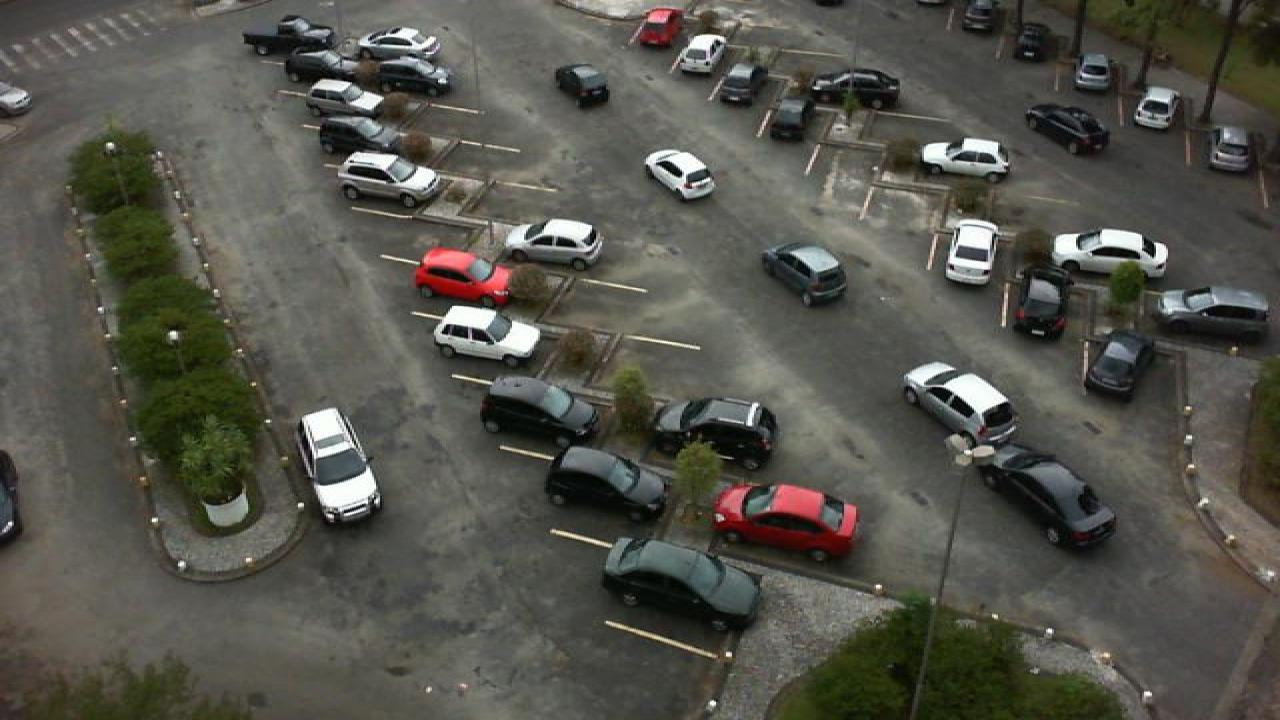Car: (600, 536, 762, 632), (976, 441, 1118, 549), (714, 481, 858, 562), (898, 361, 1020, 449), (542, 444, 668, 526), (652, 396, 782, 470), (476, 374, 600, 451), (432, 305, 544, 369), (1148, 285, 1272, 341), (1050, 226, 1170, 281), (336, 150, 444, 208), (1082, 328, 1160, 402), (412, 248, 514, 303), (502, 217, 606, 270), (920, 136, 1014, 185), (1012, 262, 1070, 338), (316, 116, 404, 162), (242, 14, 334, 58), (302, 77, 390, 121), (944, 217, 1000, 286), (810, 68, 902, 110), (352, 26, 442, 63), (374, 58, 454, 98), (284, 45, 354, 83), (1206, 125, 1256, 172), (766, 96, 808, 142), (716, 63, 756, 108)
